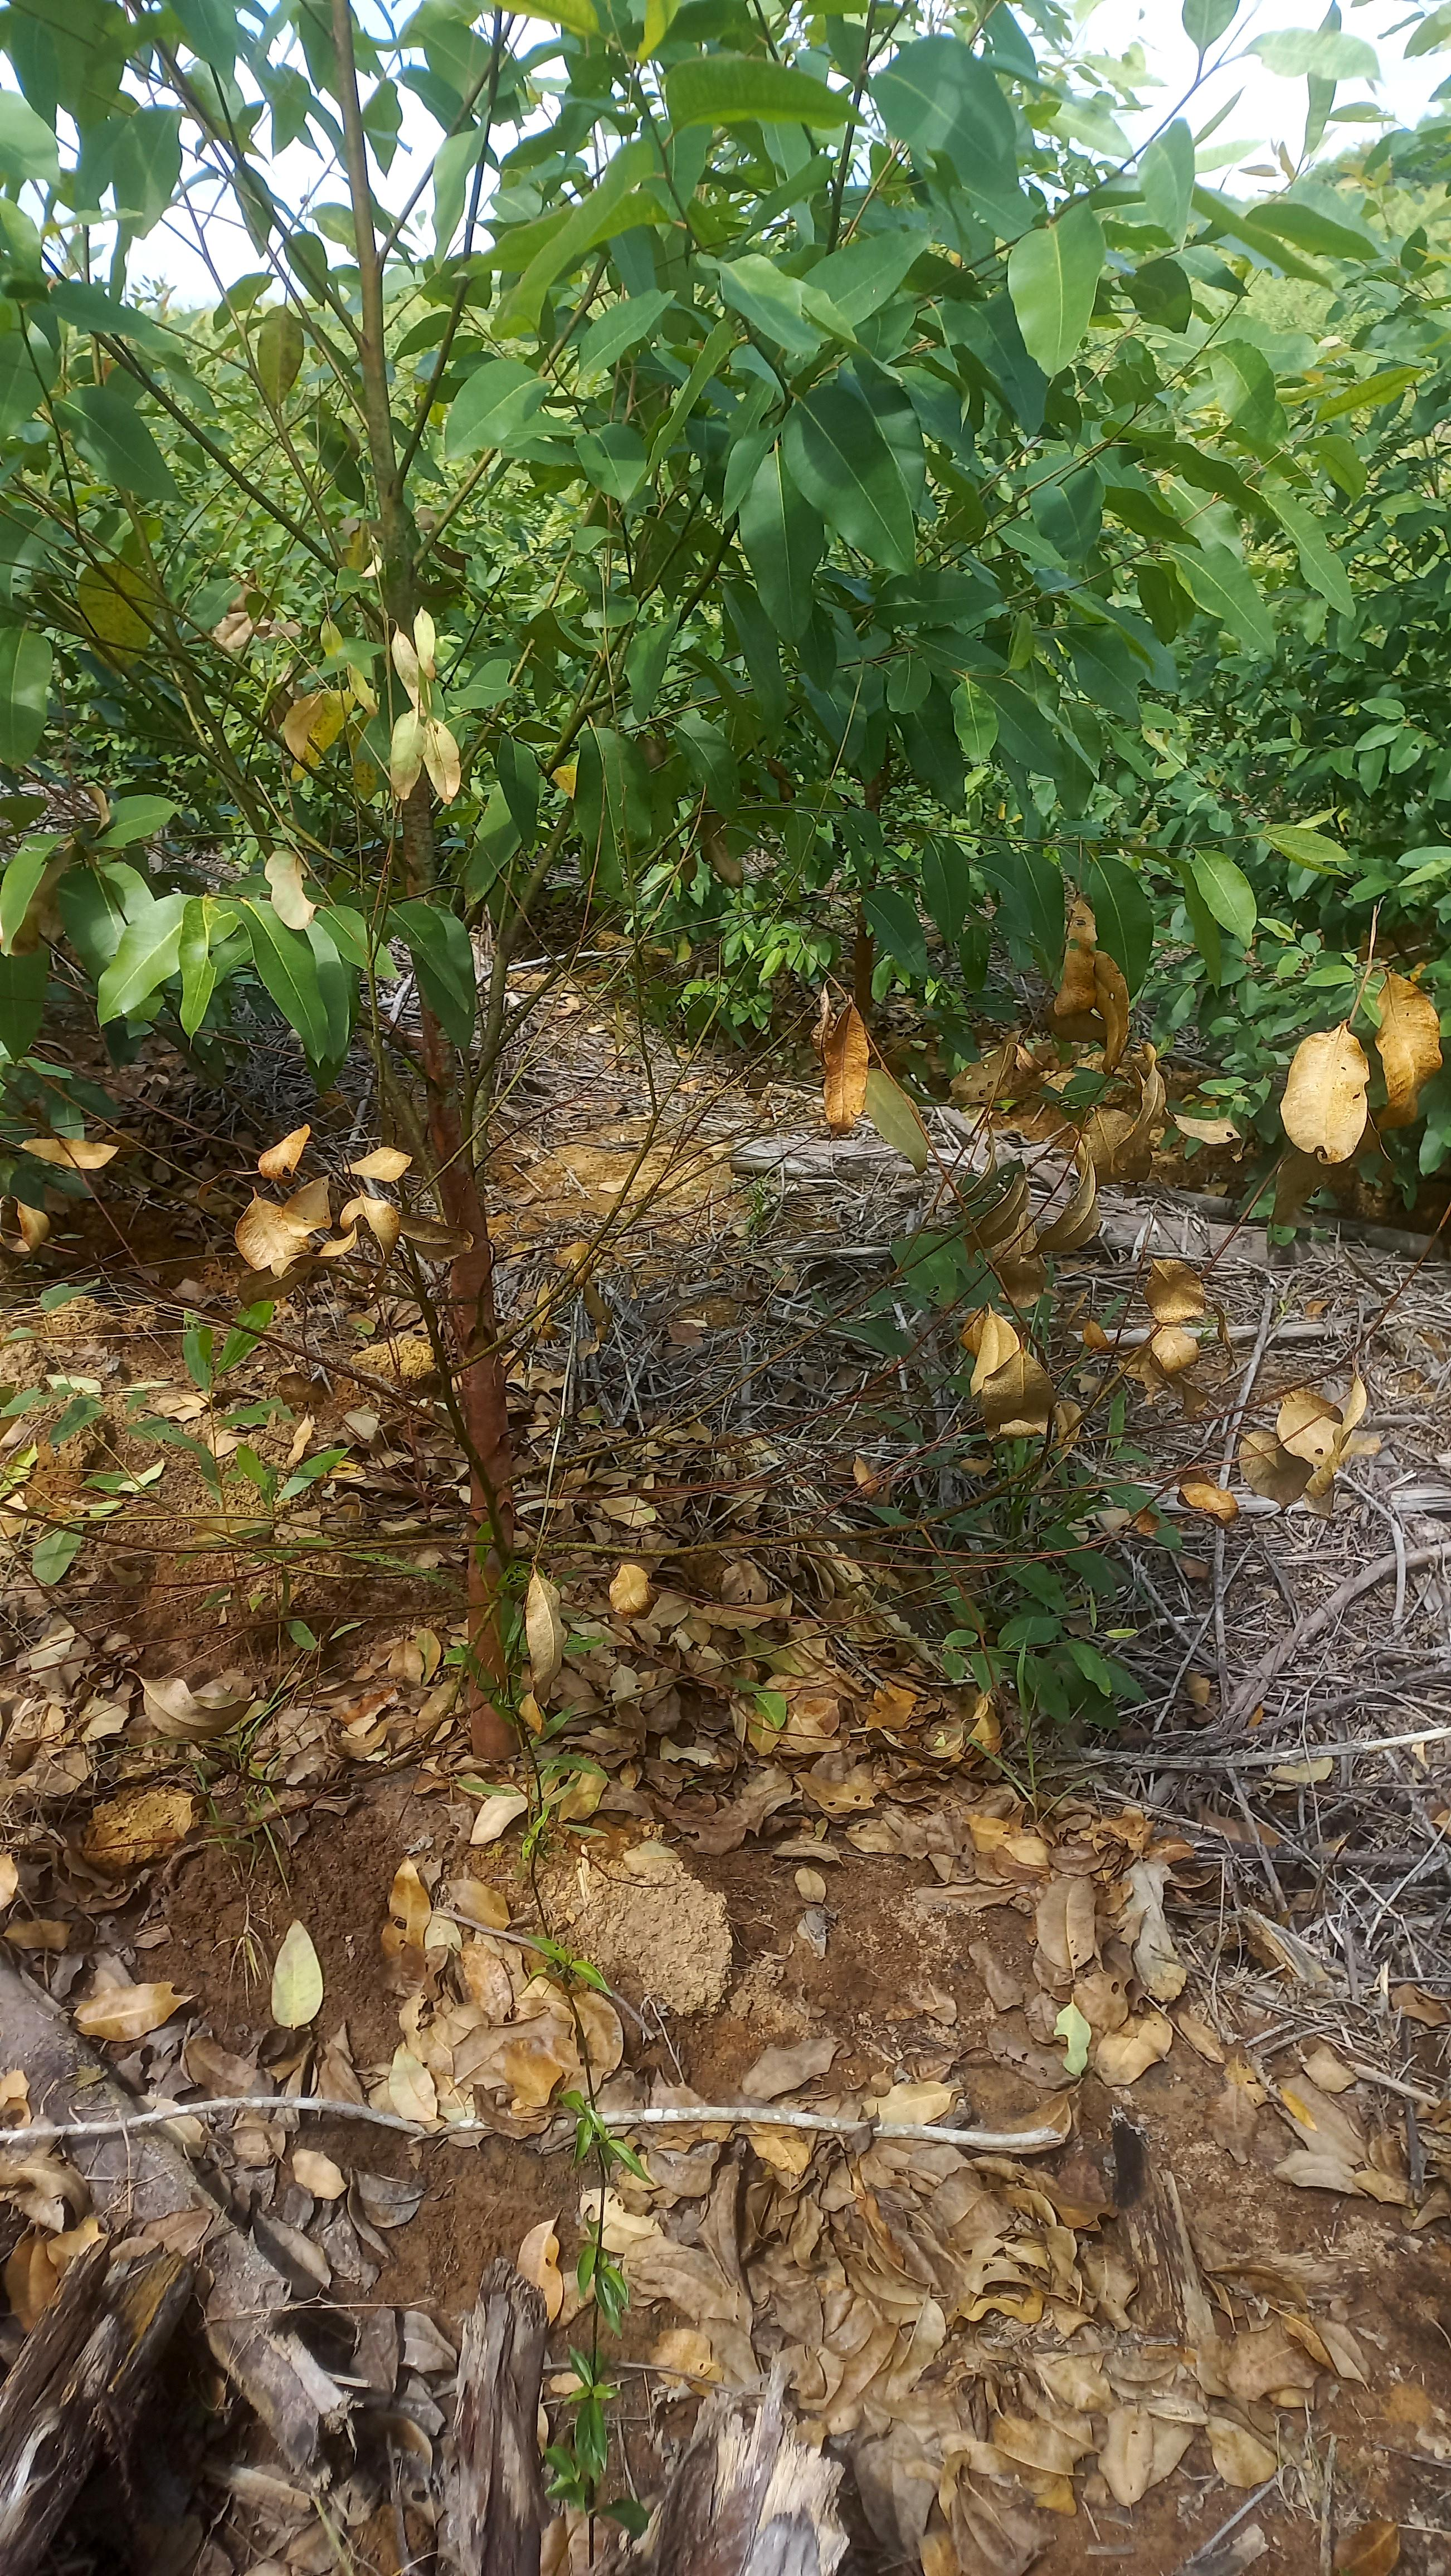Wither Tree Parts: (802, 890, 1440, 1536), (0, 1053, 460, 1353), (203, 580, 377, 775), (379, 614, 476, 824), (219, 800, 326, 934), (69, 552, 163, 676), (1251, 787, 1364, 881), (241, 295, 317, 407), (336, 501, 386, 570)
